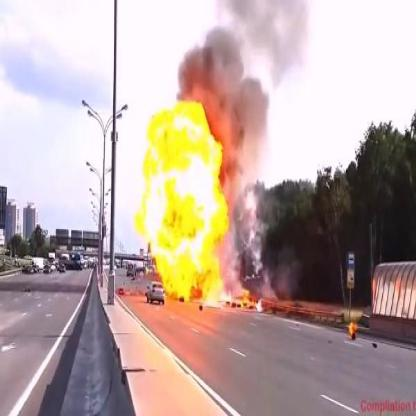fire: (137, 100, 228, 307), (236, 291, 260, 308), (349, 317, 356, 337)
